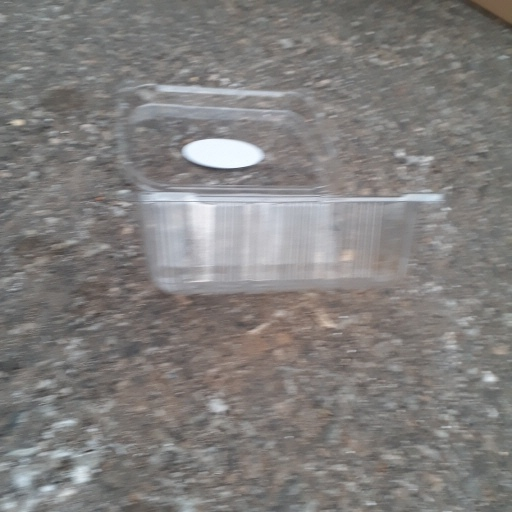Plastic_4: (117, 81, 443, 292)
